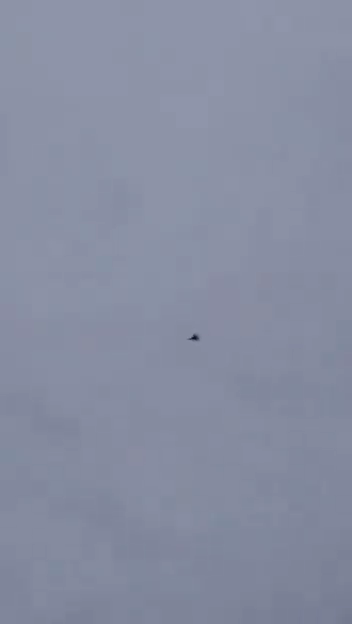shahed: (186, 332, 200, 342)
